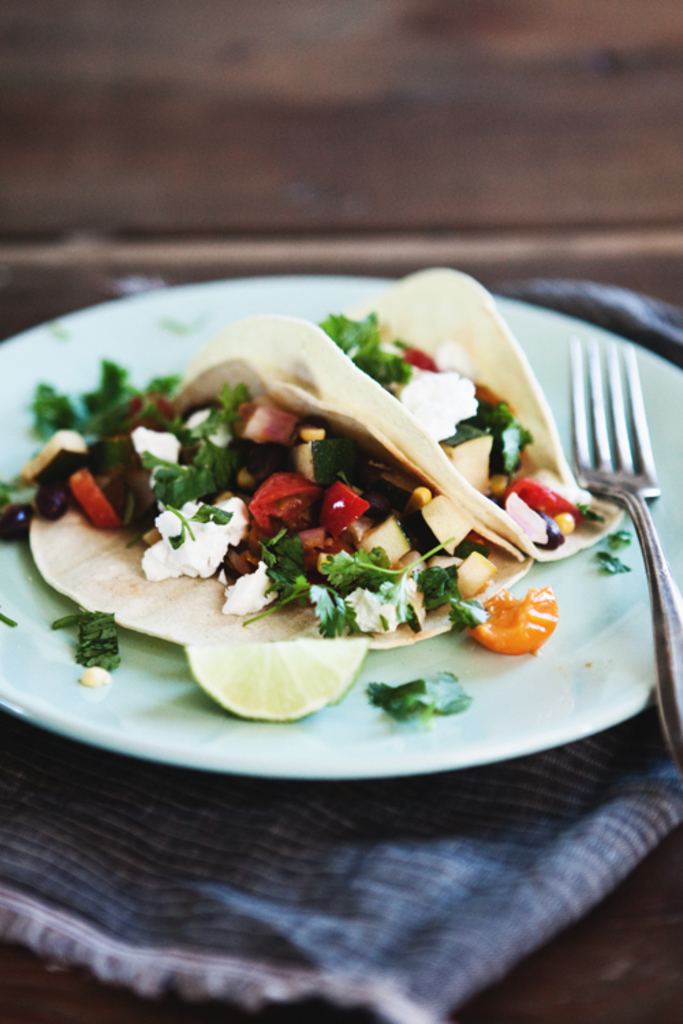taco: (25, 392, 503, 713), (193, 264, 624, 560)
